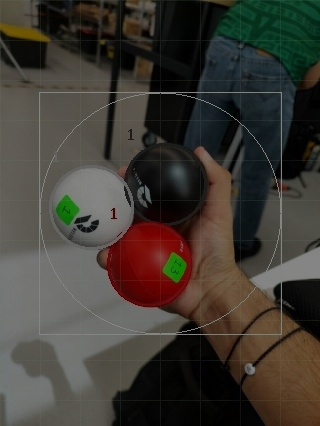Pelota blanca: (47, 161, 134, 248)
Pelota negra: (108, 338, 265, 425), (124, 142, 209, 224)
Pelota roja: (95, 220, 193, 307)
